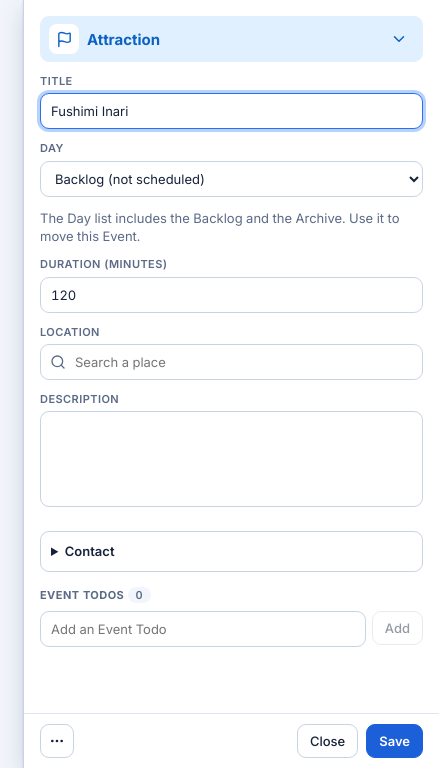
EventPanel on a phone › offers Archive and Delete for a Backlog Event
Click the button named "More actions" at (57, 741), box [40,724,74,758]
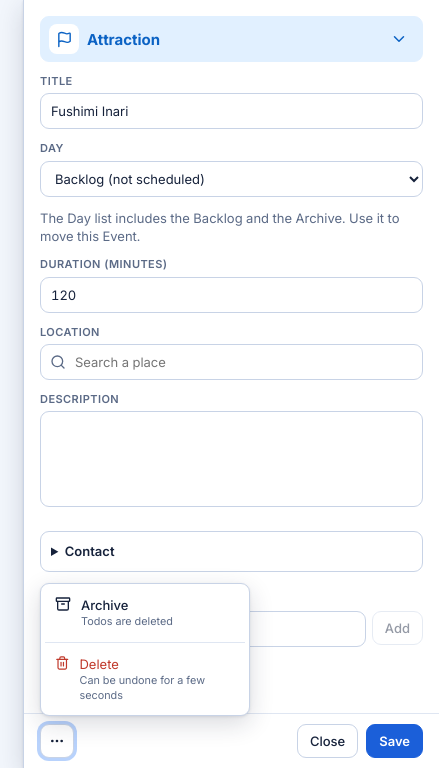
Expected: the menu item "Archive Todos are deleted" is shown, [45,588,245,638]
